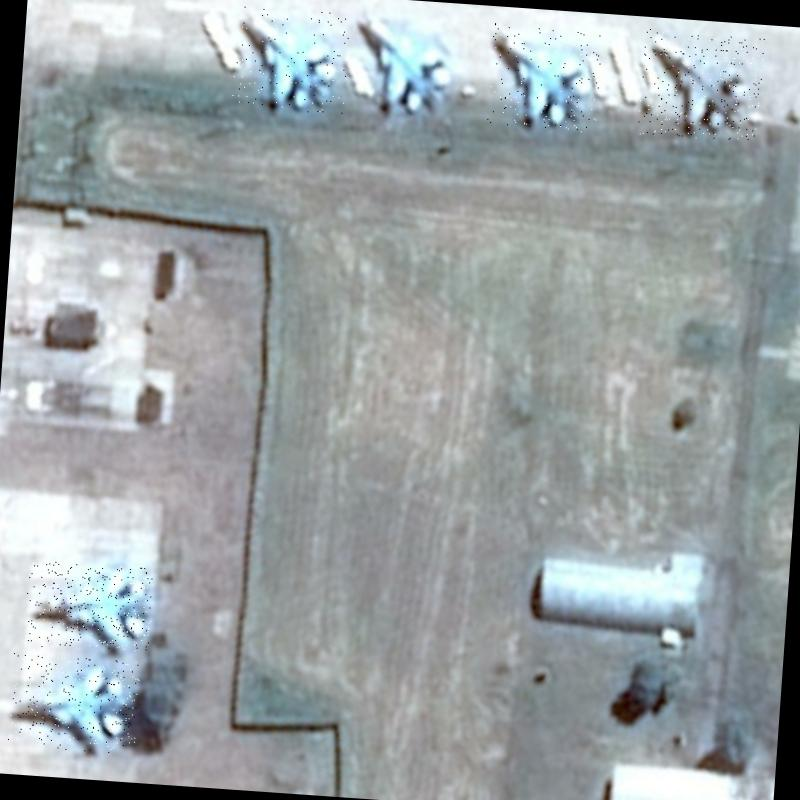A19: (637, 28, 764, 142), (7, 652, 140, 754), (231, 5, 350, 114), (486, 23, 602, 133), (23, 560, 155, 654), (352, 11, 461, 119)
